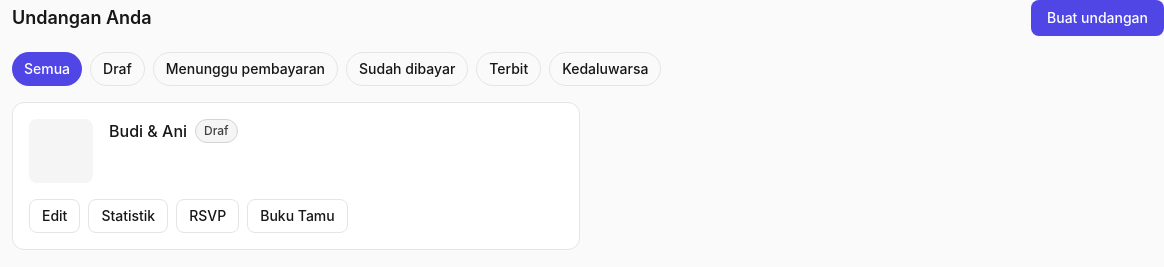
it: the dashboard list › tells a user whose FILTER matched nothing to clear the filter
Expected: the heading "Budi & Ani" is shown, top-left (109, 119), bottom-right (187, 143)
Click the radio button labelled "Kedaluwarsa" at (605, 69), box top-left (549, 52), bottom-right (662, 86)
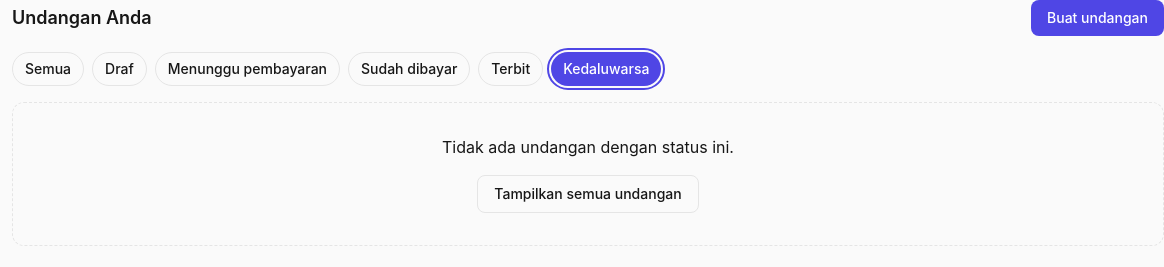
Result: the button "Tampilkan semua undangan" is shown at top-left (477, 175), bottom-right (699, 213)
